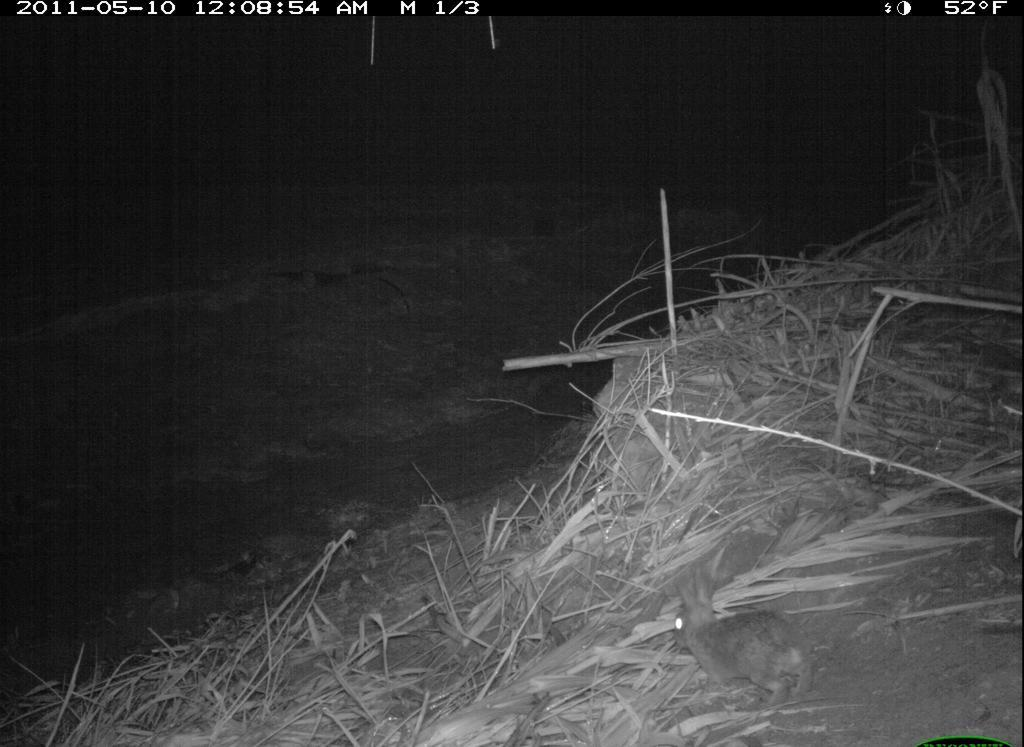rabbit: (661, 565, 820, 711)
